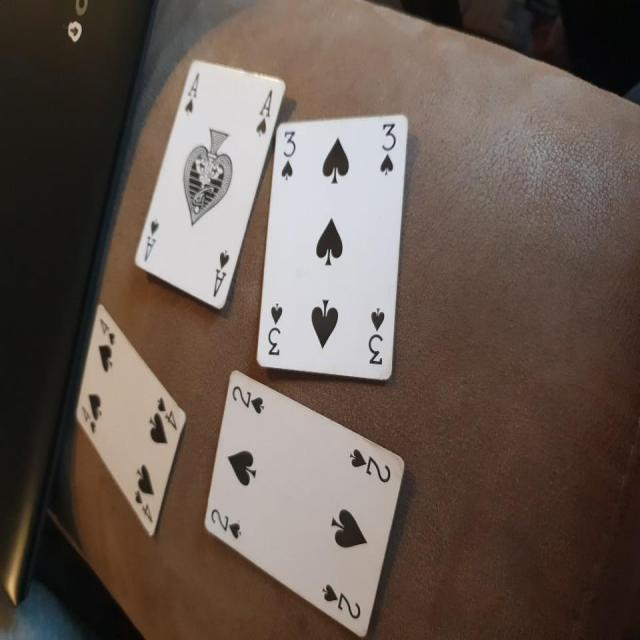2 Spades: (195, 362, 406, 640)
3 Spades: (253, 103, 414, 380)
4 Spades: (68, 303, 194, 550)
A Spades: (130, 57, 283, 317)
